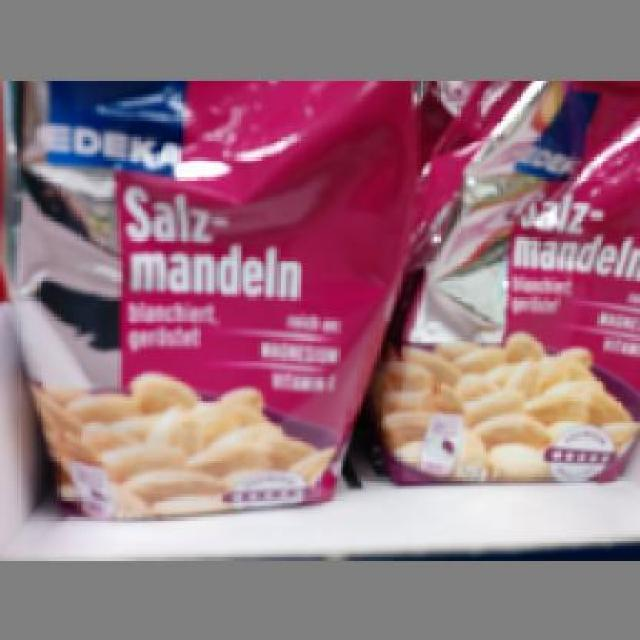Nuts: (0, 77, 420, 517), (377, 77, 637, 483)
